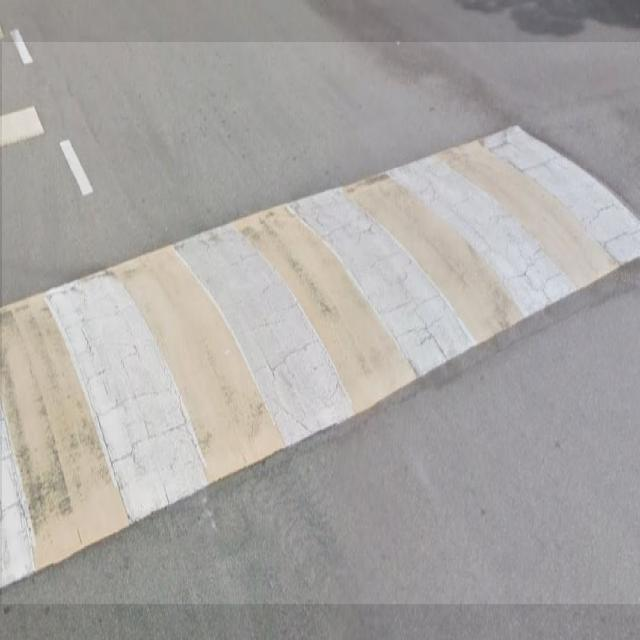speed-bump: (2, 42, 640, 604)
